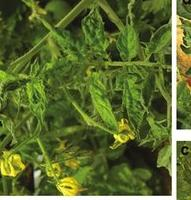Tomato leaf mosaic virus: (90, 71, 116, 127), (80, 5, 110, 53), (123, 70, 144, 130), (146, 24, 171, 61), (117, 22, 139, 63)
